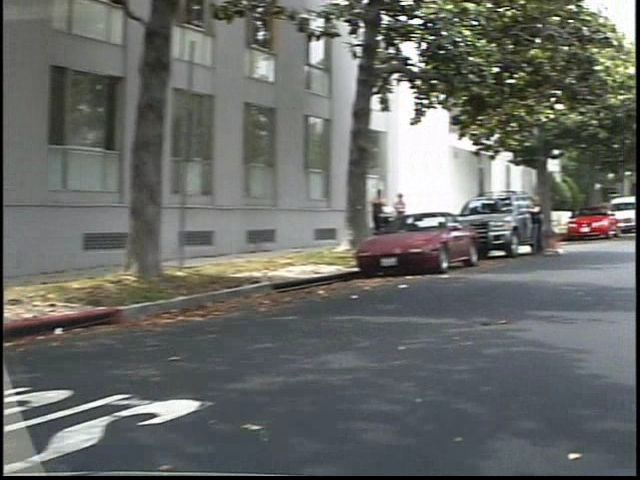person: (541, 191, 570, 260), (381, 182, 407, 249), (404, 187, 426, 244)
